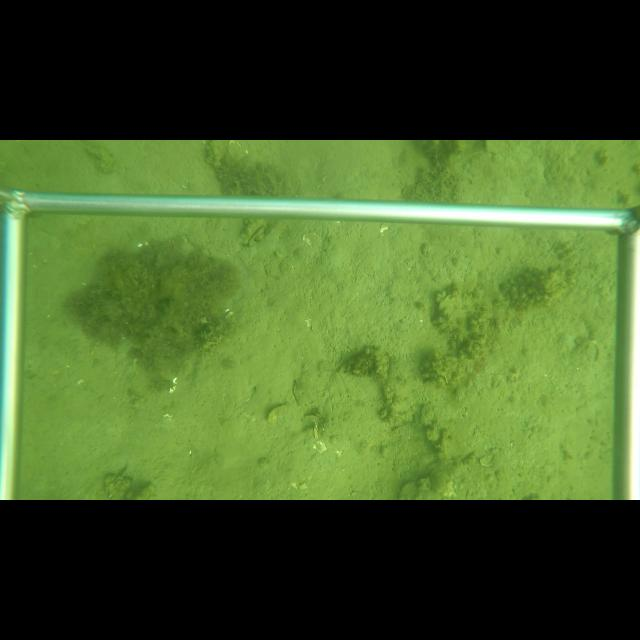Oyster-Closed: (265, 403, 287, 424)
